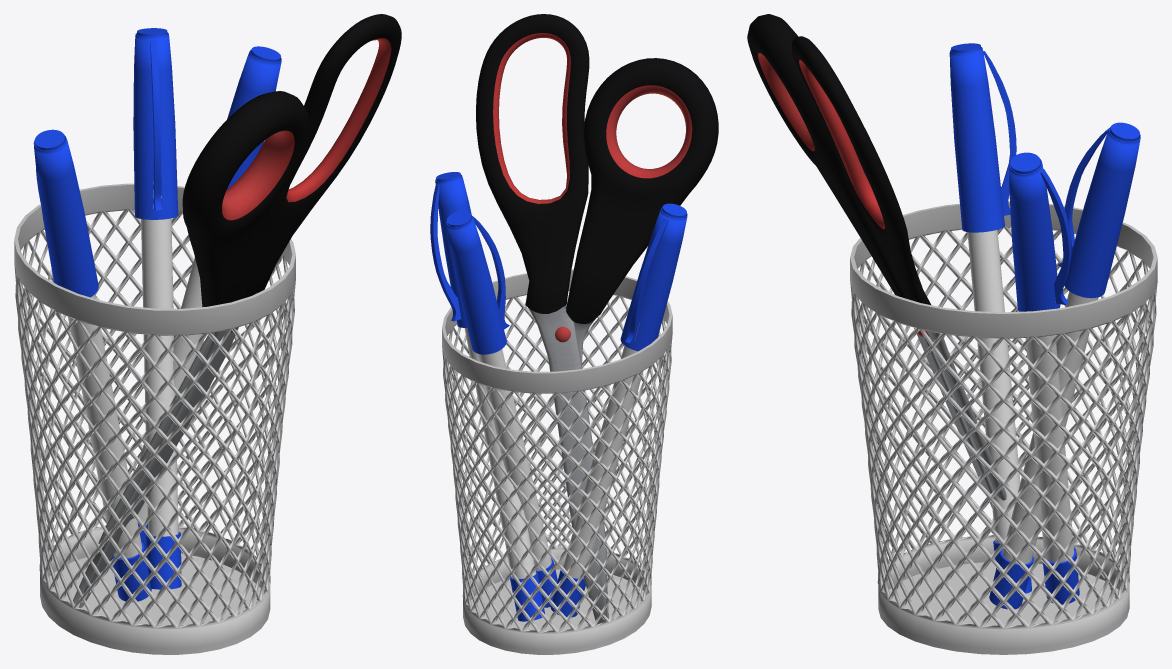
The model's file is penholder.fbx.
3 renders of one model, left to right at view 1: azimuth 30°, elevation 25°; view 2: azimuth 150°, elevation 25°; view 3: azimuth 270°, elevation 25°, orthographic. The views are drawn at different scales.
Parts seen in each view (by area): view 1: Cylinder.018, Torus.009, Cylinder.023, Cylinder.021, Cylinder.022; view 2: Cylinder.018, Torus.009, Cylinder.021, Cylinder.023, Cylinder.022; view 3: Cylinder.018, Torus.009, Cylinder.021, Cylinder.022, Cylinder.023.
Part boxes in pixels (x1=…): Cylinder.018: x1=14, y1=183, x2=295, y2=654; Torus.009: x1=73, y1=14, x2=401, y2=608; Cylinder.023: x1=133, y1=28, x2=181, y2=589; Cylinder.021: x1=33, y1=129, x2=151, y2=602; Cylinder.022: x1=110, y1=46, x2=281, y2=561; Cylinder.018: x1=442, y1=269, x2=672, y2=654; Torus.009: x1=476, y1=14, x2=718, y2=624; Cylinder.021: x1=550, y1=203, x2=687, y2=617; Cylinder.023: x1=446, y1=211, x2=557, y2=607; Cylinder.022: x1=430, y1=172, x2=544, y2=621; Cylinder.018: x1=850, y1=201, x2=1157, y2=654; Torus.009: x1=747, y1=14, x2=1006, y2=508; Cylinder.021: x1=949, y1=43, x2=1031, y2=593; Cylinder.022: x1=1009, y1=152, x2=1079, y2=604; Cylinder.023: x1=989, y1=122, x2=1140, y2=609.
Bounding box in the file's own units: 175 × 343 × 206.
